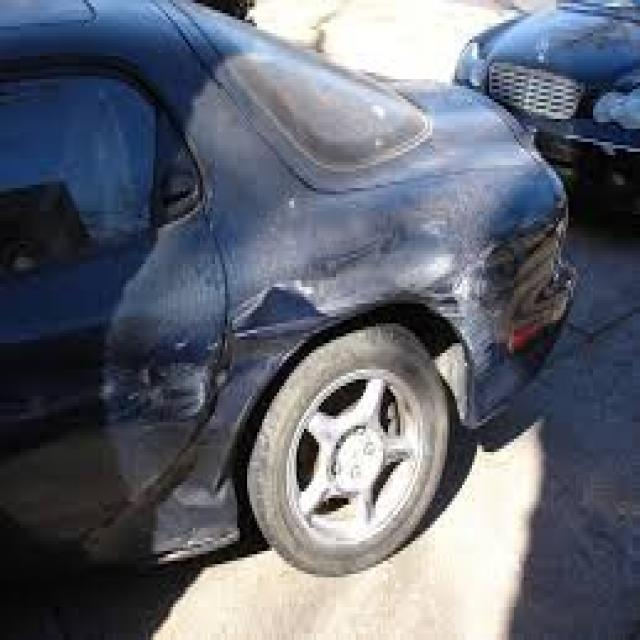minor: (69, 316, 286, 455), (426, 234, 507, 398)
